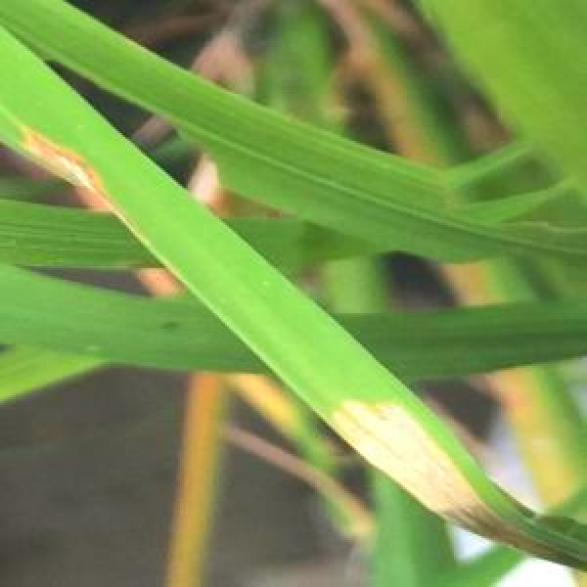Leaf_smut: (18, 107, 119, 206)
